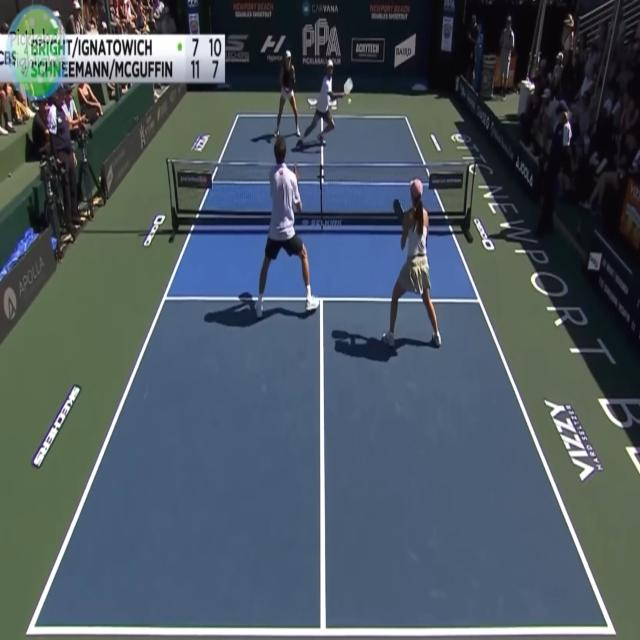ball: (347, 93, 353, 111)
